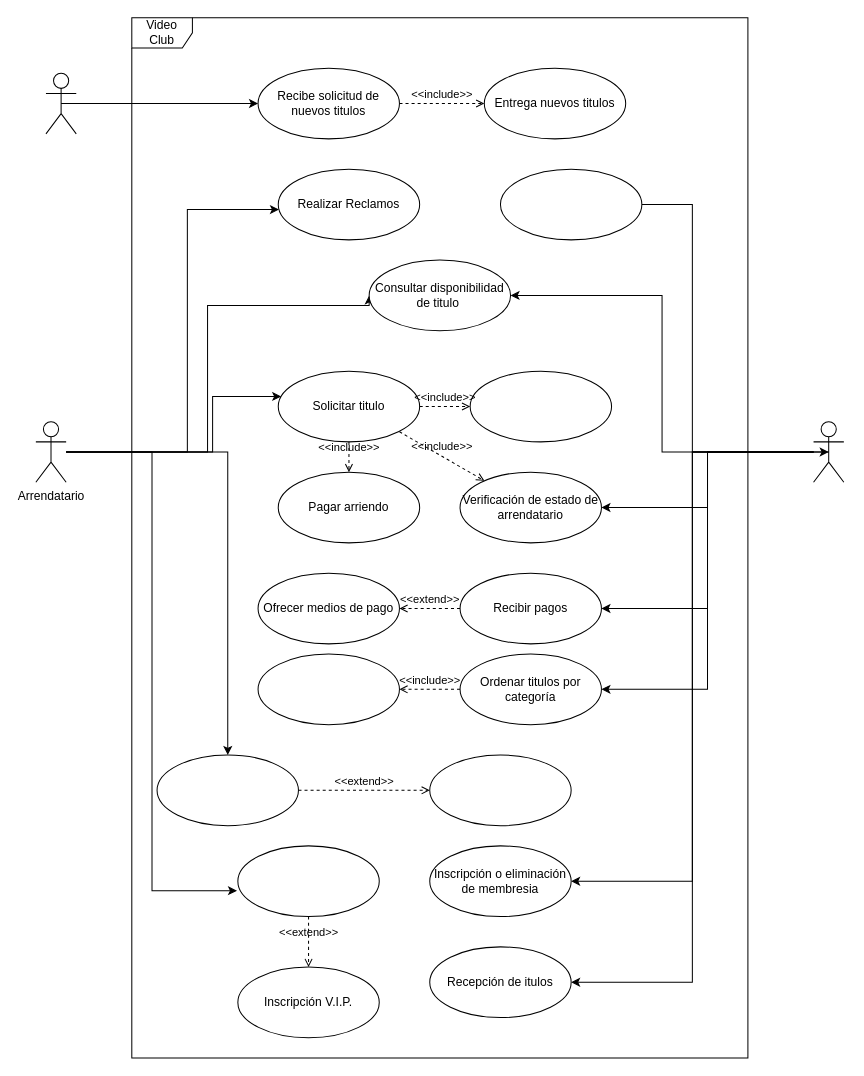
Image size: 864x1076. Some labels were removed from this diagram. The shapes that lost their labels are listed below. From the top down, each one's centre as x and y in pixels, then its label:
the point at 60,103: Proveedores
the point at 570,204: Atiende reclamos
the point at 540,406: Se reduce el número de stock del titulo en tienda
the point at 828,451: Cajero
the point at 328,689: Incluir nuevos titulos y reemplazar los que ya no sirven
the point at 227,790: Devuelve titulo
the point at 500,790: Paga Morosidad
the point at 308,881: Inscripción
